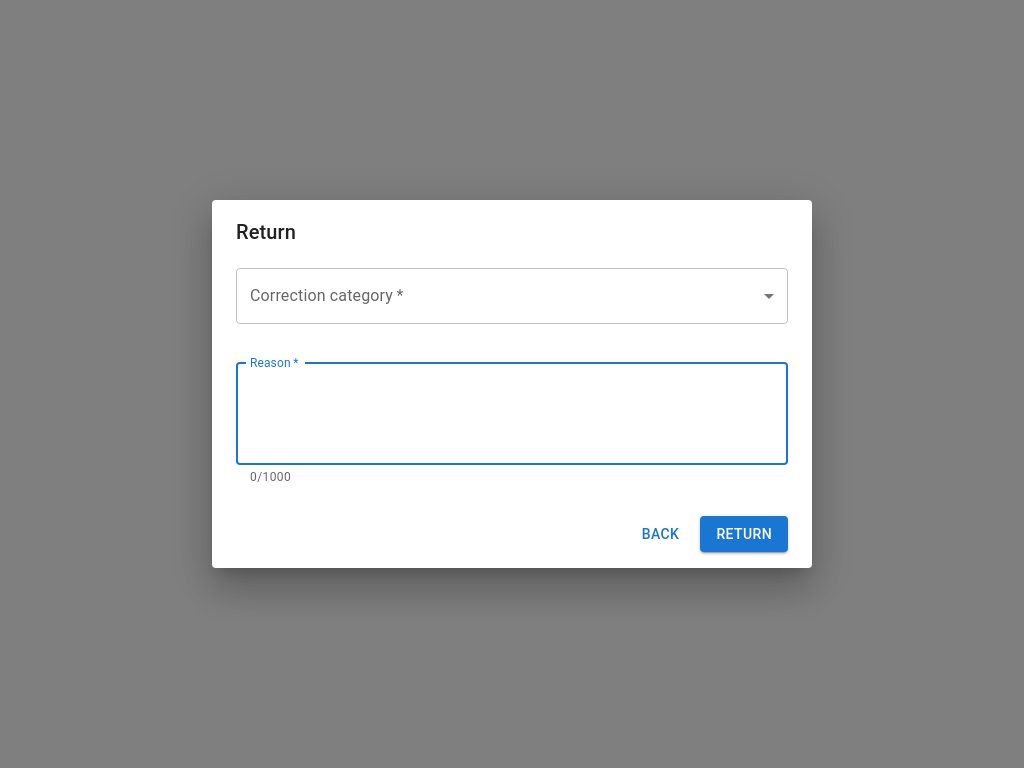
Test: ConfirmDialog › requires a reason and a category before confirming a return
Click the button "Return" at (744, 534), box [700,516,788,552]
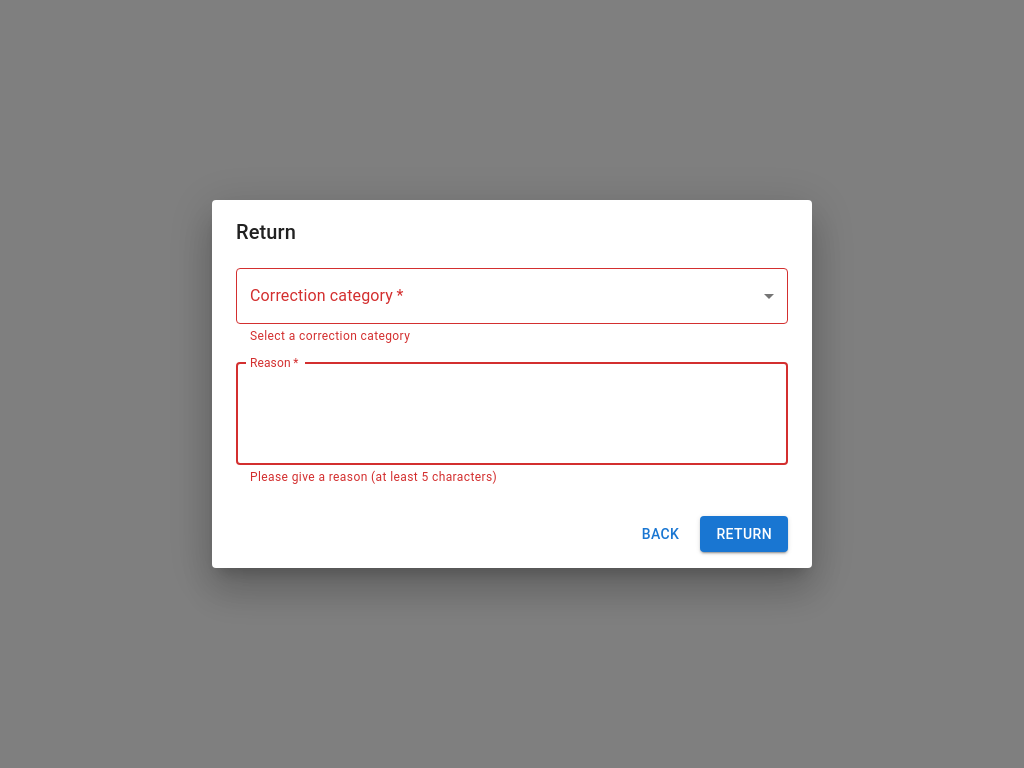
Expected: the text "Please give a reason (at least 5 characters)" is shown, [250,470,497,484]
Expected: the text "Select a correction category" is shown, [250,329,410,343]
